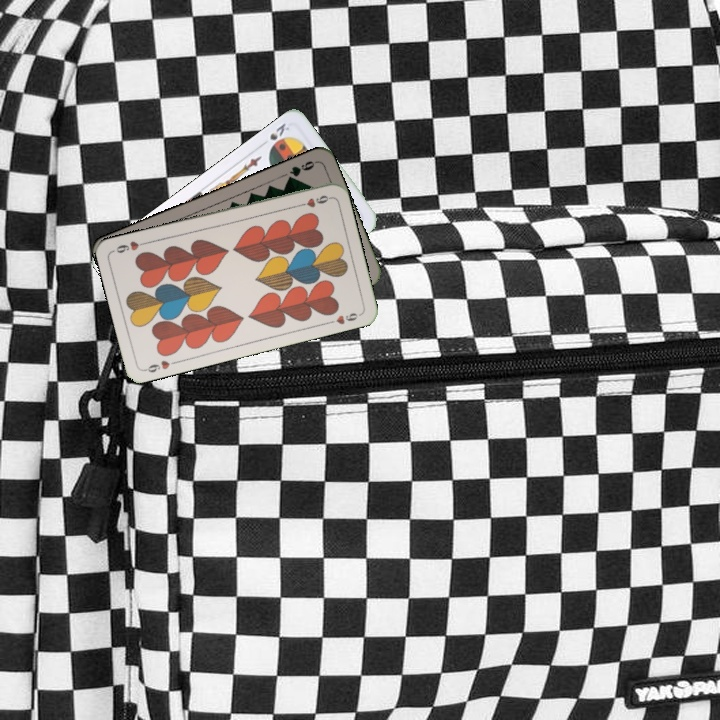G9: (283, 157, 319, 185)
H9: (293, 191, 333, 210), (140, 356, 180, 375)
SK: (266, 119, 292, 143)
